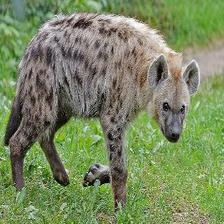hyena: (4, 10, 191, 224)
